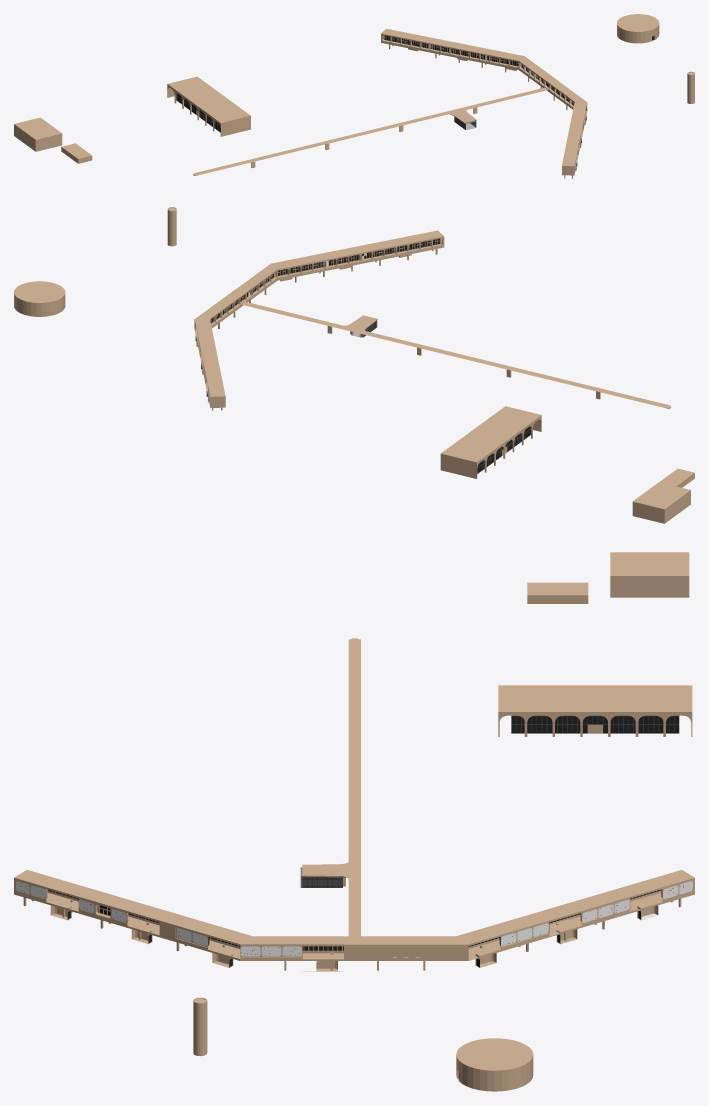
File: rectorat to bib.gltf
The picture shows the model from 3 angles, top to bottom: view 1: azimuth 30°, elevation 25°; view 2: azimuth 150°, elevation 25°; view 3: azimuth 270°, elevation 25°; orthographic projection. The views are drawn at different scales.
Parts seen in each view (by area): view 1: biblio + fac, rectorat; view 2: biblio + fac, rectorat; view 3: biblio + fac, rectorat.
Part boxes in pixels (box(x1,y1,x2,y2)): biblio + fac: box(14, 14, 694, 178); rectorat: box(167, 76, 250, 136); biblio + fac: box(14, 207, 694, 523); rectorat: box(440, 406, 541, 478); biblio + fac: box(14, 552, 694, 1091); rectorat: box(498, 685, 692, 736).
Bounding box in the file's own units: 796 × 37.71 × 440.
Materials: 1 (1 with a texture image).
